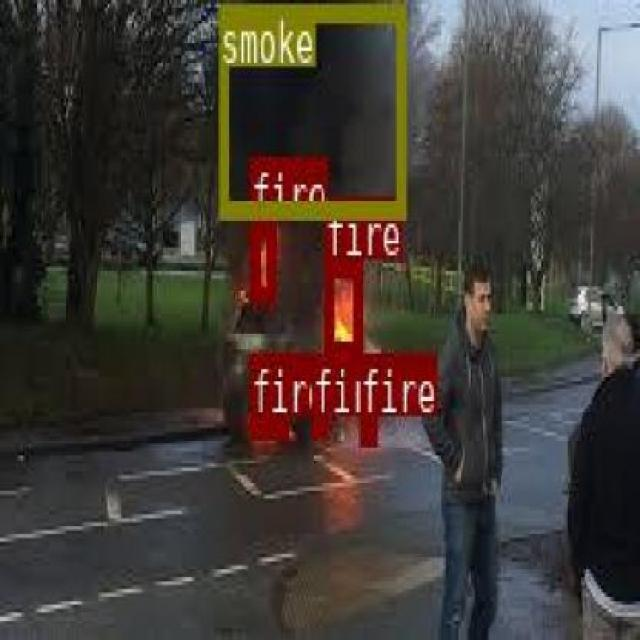Fire: (322, 256, 360, 356), (248, 218, 274, 302), (248, 416, 287, 436), (358, 415, 374, 443), (310, 412, 326, 436)
Smoke: (237, 37, 391, 201)
